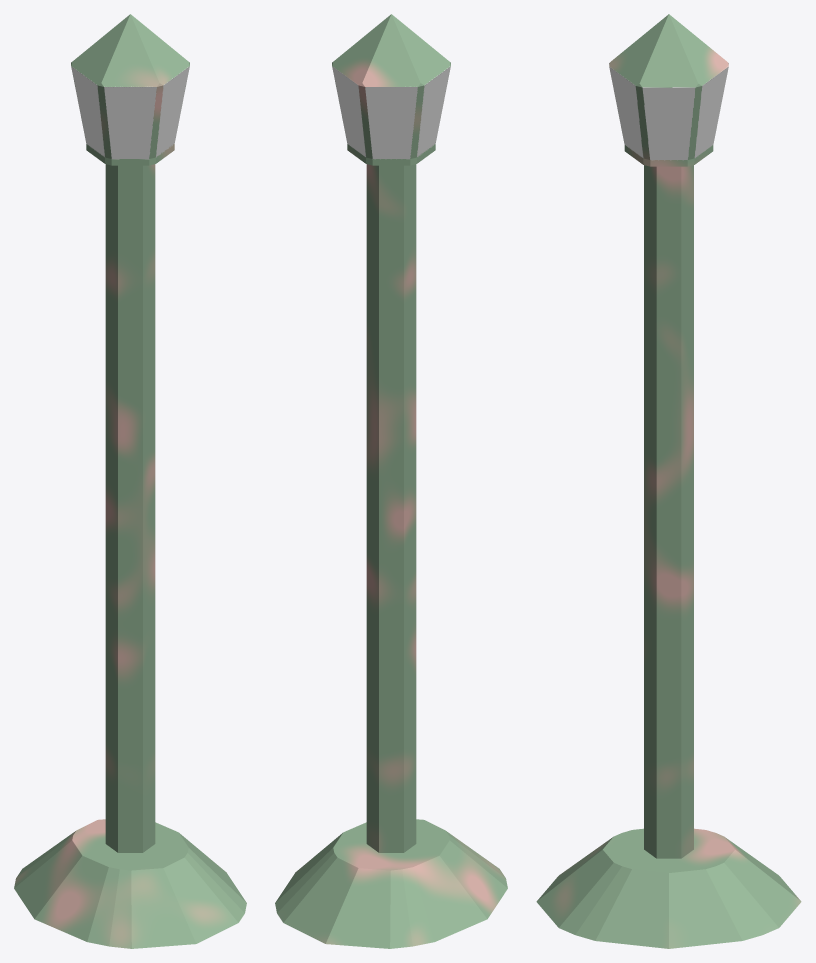
Rendered from StreetLight.fbx.
3 renders of one model, left to right at view 1: azimuth 30°, elevation 25°; view 2: azimuth 150°, elevation 25°; view 3: azimuth 270°, elevation 25°, orthographic.
Visible parts, largest first — view 1: Cylinder; view 2: Cylinder; view 3: Cylinder.
Part boxes in pixels (x1,y1,x2,y2): Cylinder: [14, 14, 246, 948]; Cylinder: [275, 14, 507, 948]; Cylinder: [536, 14, 801, 948].
Size of the model in its own units: 68.3 by 81.1 by 300.
